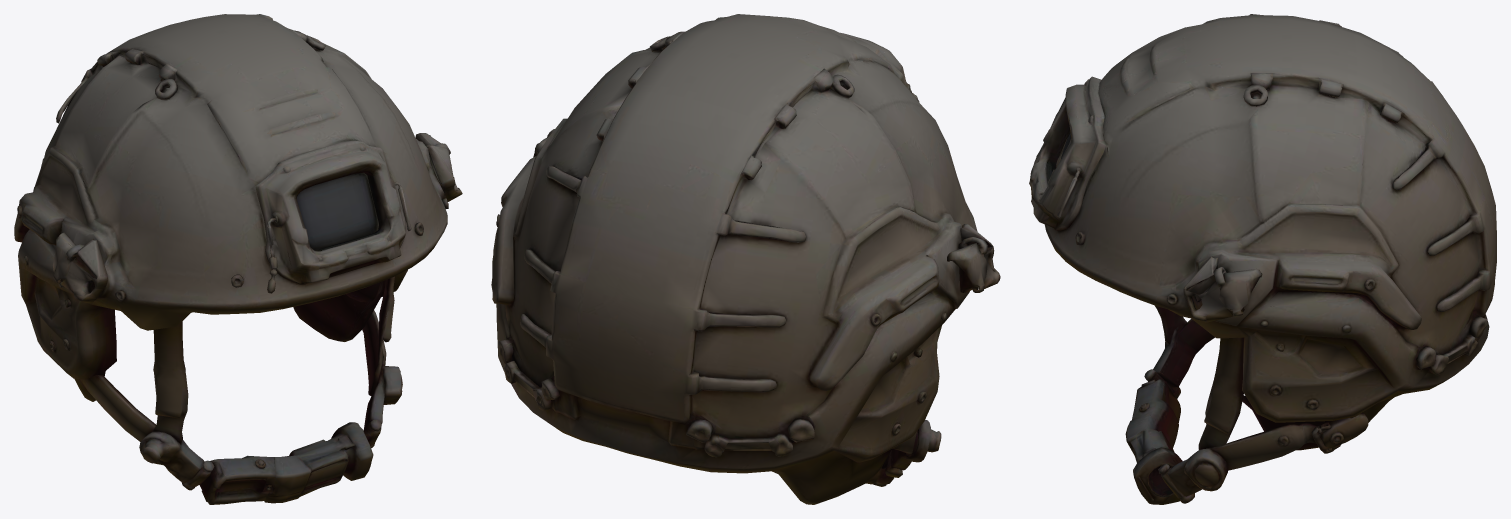
The model's file is mer_tactical_helmet_nvg_LOD0.glb.
3 renders of one model, left to right at view 1: azimuth 30°, elevation 25°; view 2: azimuth 150°, elevation 25°; view 3: azimuth 270°, elevation 25°, orthographic. The views are drawn at different scales.
Parts seen in each view (by area): view 1: tripo_node_3221aee6-50b0-457b-a914-8cea8e218df3; view 2: tripo_node_3221aee6-50b0-457b-a914-8cea8e218df3; view 3: tripo_node_3221aee6-50b0-457b-a914-8cea8e218df3.
Boxes of the visible parts, box(x1,y1,x2,y2) form: tripo_node_3221aee6-50b0-457b-a914-8cea8e218df3: box(14, 14, 462, 504); tripo_node_3221aee6-50b0-457b-a914-8cea8e218df3: box(491, 14, 1000, 504); tripo_node_3221aee6-50b0-457b-a914-8cea8e218df3: box(1029, 14, 1496, 504).
Bounding box in the file's own units: 0.9824 × 0.998 × 0.9746.
Materials: 1 (1 with a texture image).
